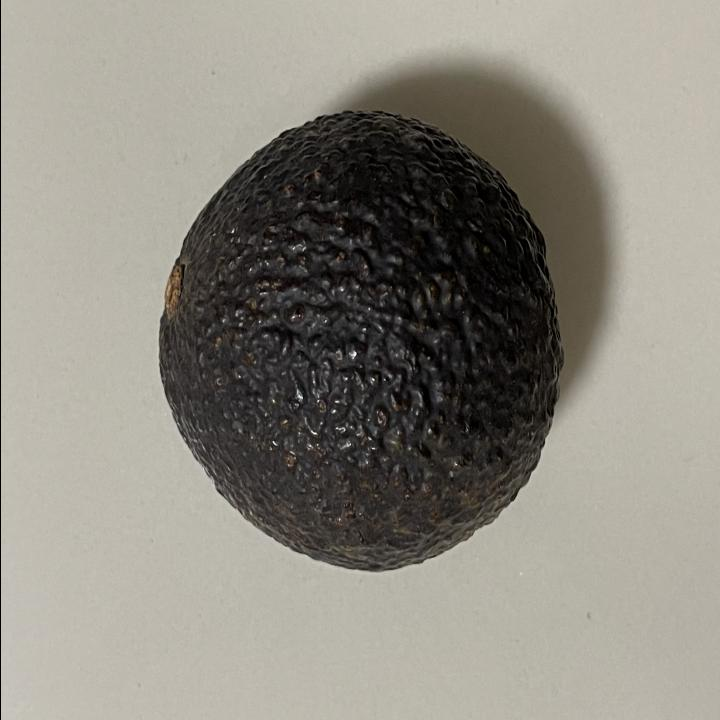Level1: (138, 98, 580, 594)
